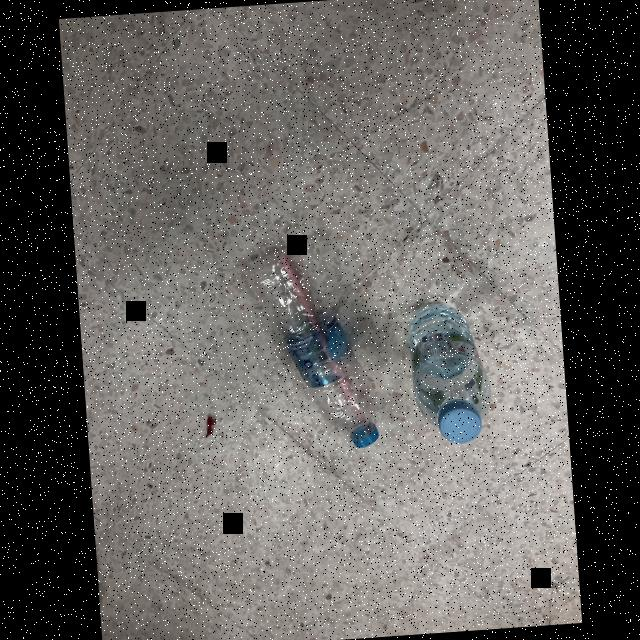plastic_bottle: (238, 235, 379, 453), (404, 298, 494, 446)
plastic_bottle_cap: (434, 396, 483, 445), (348, 416, 382, 448)
straw: (273, 248, 363, 418)
